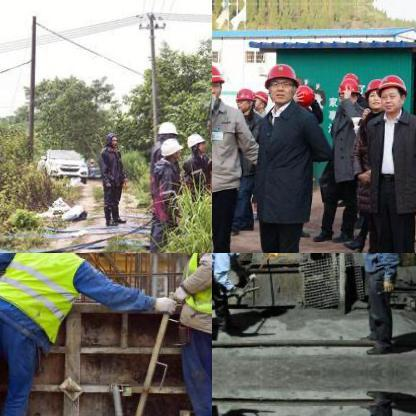Helmet: (264, 58, 297, 108), (378, 69, 408, 117), (334, 76, 360, 106), (363, 76, 383, 110), (233, 84, 256, 112), (212, 60, 226, 103), (152, 118, 176, 142), (159, 134, 181, 158), (186, 130, 206, 156), (252, 86, 270, 112)
